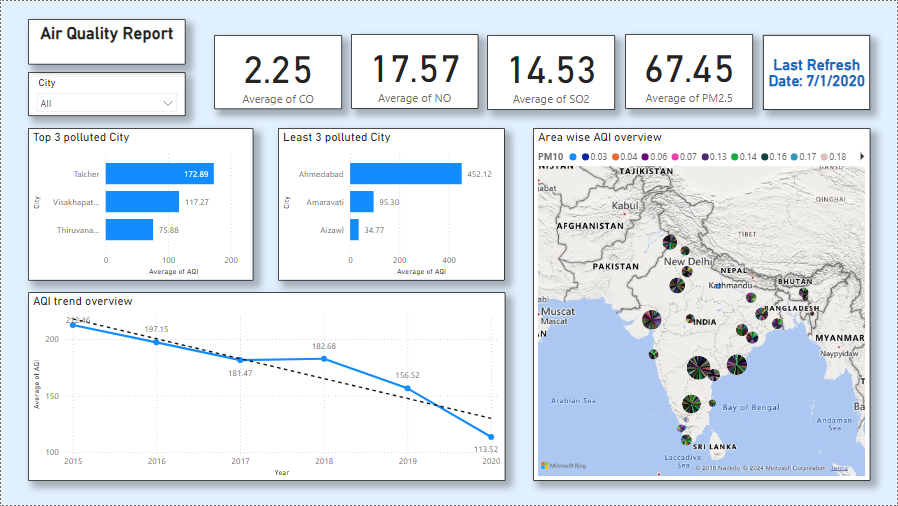

What the dashboard file says about the page in this screenshot:
{"tool":"powerbi","page":{"name":"Page 1","canvas":[1280,720],"ordinal":0},"visuals":[{"type":"lineChart","title":"AQI trend overview","fields":{"Category":["city_day.Date.Variation.Date Hierarchy.Year","city_day.Date.Variation.Date Hierarchy.Quarter","city_day.Date.Variation.Date Hierarchy.Month","city_day.Date.Variation.Date Hierarchy.Day"],"Y":["Avg(city_day.AQI)"]},"box":[38.3,415,681.7,270],"z":0},{"type":"slicer","fields":{"Values":["city_day.City"]},"box":[38.3,101.7,225,63.3],"z":1000},{"type":"barChart","title":"Top 3 polluted City","fields":{"Category":["city_day.City"],"Y":["Avg(city_day.AQI)"]},"box":[38,182,322,218],"z":2000},{"type":"barChart","title":"Least 3 polluted City","fields":{"Category":["city_day.City"],"Y":["Avg(city_day.AQI)"]},"box":[396,182,324,218],"z":3000},{"type":"card","fields":{"Values":["Avg(city_day.CO)"]},"box":[304.3,48.1,183,106],"z":4000},{"type":"card","fields":{"Values":["Avg(city_day.NO)"]},"box":[500.5,47.7,181.7,106.7],"z":5000},{"type":"card","fields":{"Values":["Avg(city_day.SO2)"]},"box":[695,48.3,183.3,106.7],"z":6000},{"type":"card","fields":{"Values":["Avg(city_day.PM2.5)"]},"box":[891.7,47.7,183.3,106.7],"z":7000},{"type":"textbox","box":[38.3,25,225,65],"z":8000},{"type":"map","title":"Area wise AQI overview","fields":{"Category":["city_day.City"],"Size":["Avg(city_day.AQI)"],"Series":["city_day.PM10"]},"box":[760,182,482,504],"z":9000},{"type":"card","fields":{"Values":["city_day.MAX Date"]},"box":[1088.3,48.3,153.3,106.7],"z":10000}]}

Visuals, with their boxes in screenshot pixels (x1, y1, x2, y2), scaled from the page's 1280x720 canvas onto the 898x506 screenshot:
"AQI trend overview" lineChart: box=[27, 292, 505, 481]
slicer - city_day.City: box=[27, 71, 185, 116]
"Top 3 polluted City" barChart: box=[27, 128, 253, 281]
"Least 3 polluted City" barChart: box=[278, 128, 505, 281]
card - Avg(city_day.CO): box=[213, 34, 342, 108]
card - Avg(city_day.NO): box=[351, 34, 479, 109]
card - Avg(city_day.SO2): box=[488, 34, 616, 109]
card - Avg(city_day.PM2.5): box=[626, 34, 754, 109]
textbox: box=[27, 18, 185, 63]
"Area wise AQI overview" map: box=[533, 128, 871, 482]
card - city_day.MAX Date: box=[764, 34, 871, 109]
